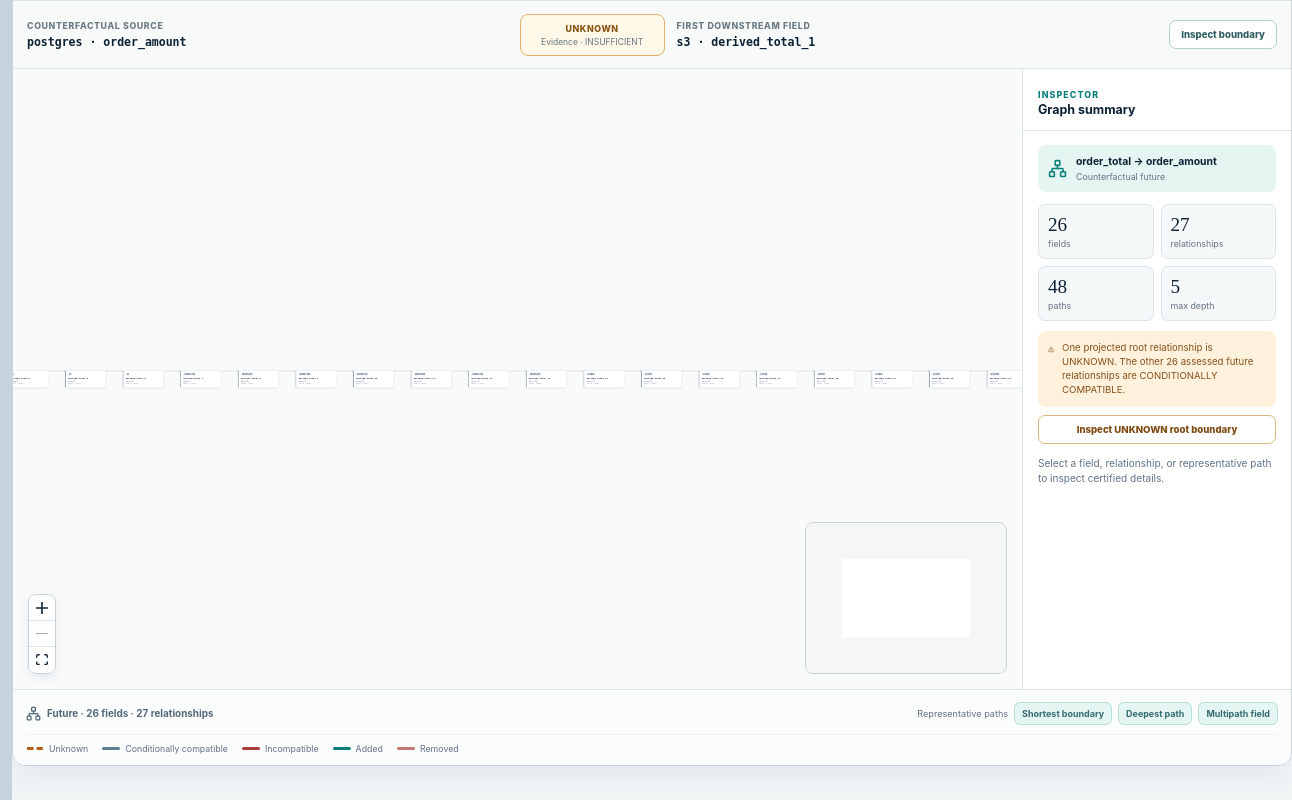
Test: GraphWorkspace › selects the multipath representative field
The width and height of the screenshot is (1292, 800).
(page scrolled)
expect the text "Graph summary" is shown: met, box [1038,102,1136,117]
Click the button "Multipath field" at x=1238, y=713, box [1198,702,1278,724]
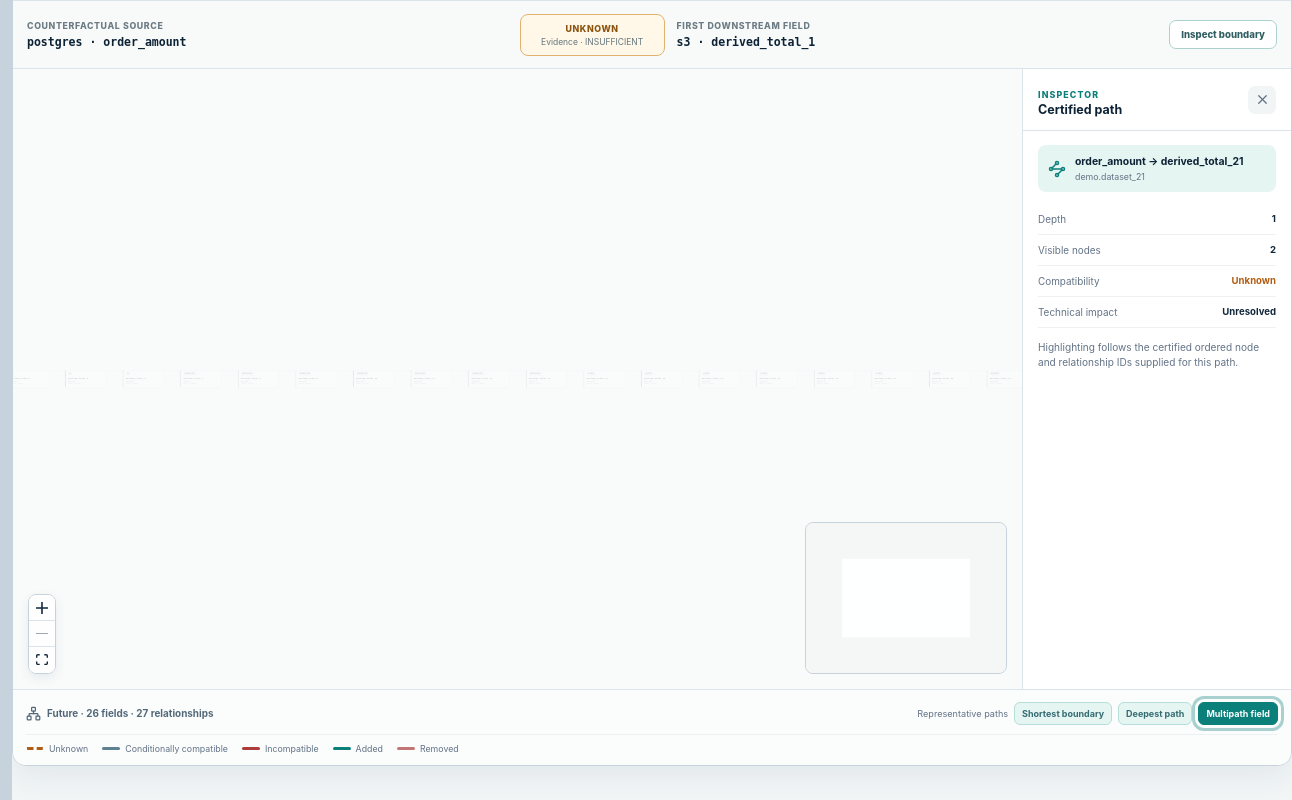
expect the text "Certified path" is shown: met, box [1038,102,1122,117]
